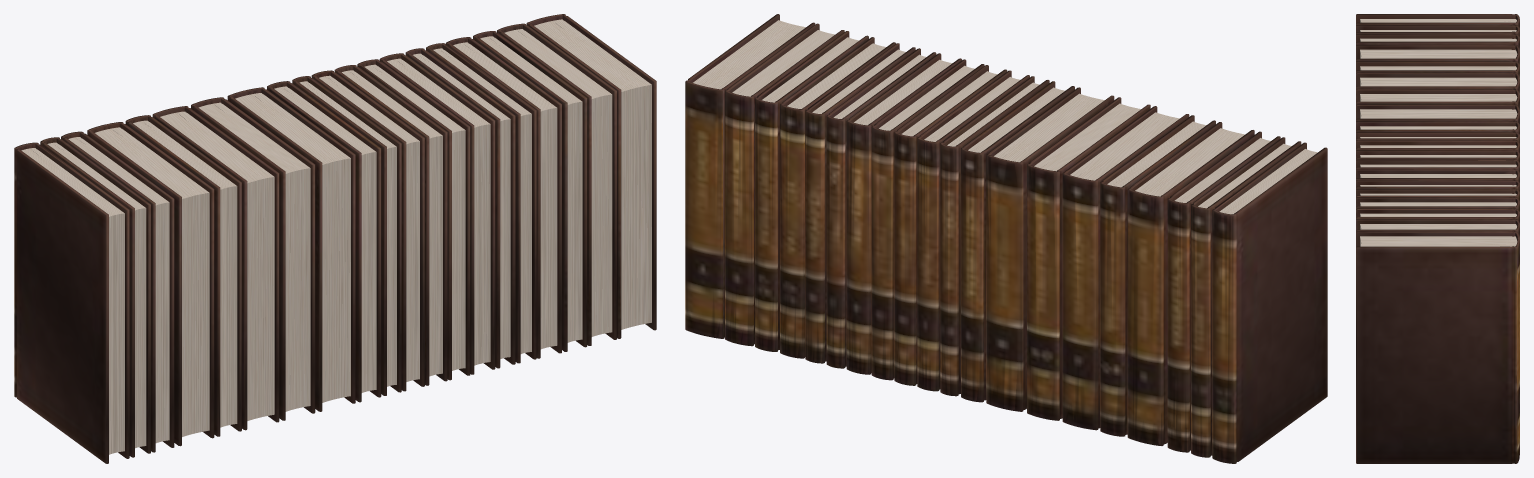
The model's file is buku.glb.
3 renders of one model, left to right at view 1: azimuth 30°, elevation 25°; view 2: azimuth 150°, elevation 25°; view 3: azimuth 270°, elevation 25°, orthographic. The views are drawn at different scales.
Visible parts, largest first — view 1: book_encyclopedia_set_01_book20, book_encyclopedia_set_01_book13, book_encyclopedia_set_01_book17, book_encyclopedia_set_01_book01, book_encyclopedia_set_01_book15, book_encyclopedia_set_01_book14, book_encyclopedia_set_01_book02, book_encyclopedia_set_01_book16, book_encyclopedia_set_01_book12, book_encyclopedia_set_01_book04, book_encyclopedia_set_01_book03, book_encyclopedia_set_01_book07 (+8 smaller); view 2: book_encyclopedia_set_01_book20, book_encyclopedia_set_01_book13, book_encyclopedia_set_01_book17, book_encyclopedia_set_01_book01, book_encyclopedia_set_01_book15, book_encyclopedia_set_01_book14, book_encyclopedia_set_01_book02, book_encyclopedia_set_01_book16, book_encyclopedia_set_01_book12, book_encyclopedia_set_01_book04, book_encyclopedia_set_01_book07, book_encyclopedia_set_01_book03 (+8 smaller); view 3: book_encyclopedia_set_01_book01, book_encyclopedia_set_01_book13, book_encyclopedia_set_01_book15, book_encyclopedia_set_01_book17, book_encyclopedia_set_01_book14, book_encyclopedia_set_01_book02, book_encyclopedia_set_01_book07, book_encyclopedia_set_01_book16, book_encyclopedia_set_01_book04, book_encyclopedia_set_01_book18, book_encyclopedia_set_01_book20, book_encyclopedia_set_01_book12 (+8 smaller).
Boxes of the visible parts, <box> form: book_encyclopedia_set_01_book20: <box>14,142,129,463</box>; book_encyclopedia_set_01_book13: <box>227,87,355,411</box>; book_encyclopedia_set_01_book17: <box>87,122,214,446</box>; book_encyclopedia_set_01_book01: <box>526,14,656,338</box>; book_encyclopedia_set_01_book15: <box>152,106,279,430</box>; book_encyclopedia_set_01_book14: <box>191,97,315,420</box>; book_encyclopedia_set_01_book02: <box>497,23,616,345</box>; book_encyclopedia_set_01_book16: <box>125,115,241,436</box>; book_encyclopedia_set_01_book12: <box>267,81,381,402</box>; book_encyclopedia_set_01_book04: <box>446,37,561,358</box>; book_encyclopedia_set_01_book03: <box>473,31,587,351</box>; book_encyclopedia_set_01_book07: <box>379,53,495,374</box>; book_encyclopedia_set_01_book20: <box>1212,142,1327,463</box>; book_encyclopedia_set_01_book13: <box>986,87,1114,411</box>; book_encyclopedia_set_01_book17: <box>1127,122,1254,445</box>; book_encyclopedia_set_01_book01: <box>685,14,815,338</box>; book_encyclopedia_set_01_book15: <box>1062,106,1189,430</box>; book_encyclopedia_set_01_book14: <box>1027,97,1150,420</box>; book_encyclopedia_set_01_book02: <box>725,23,844,346</box>; book_encyclopedia_set_01_book16: <box>1100,115,1215,436</box>; book_encyclopedia_set_01_book12: <box>961,81,1074,402</box>; book_encyclopedia_set_01_book04: <box>780,37,895,358</box>; book_encyclopedia_set_01_book07: <box>846,53,961,374</box>; book_encyclopedia_set_01_book03: <box>755,31,868,351</box>; book_encyclopedia_set_01_book01: <box>1356,231,1519,463</box>; book_encyclopedia_set_01_book13: <box>1356,104,1519,125</box>; book_encyclopedia_set_01_book15: <box>1356,72,1519,94</box>; book_encyclopedia_set_01_book17: <box>1356,45,1519,64</box>; book_encyclopedia_set_01_book14: <box>1356,89,1519,111</box>; book_encyclopedia_set_01_book02: <box>1356,219,1519,239</box>; book_encyclopedia_set_01_book07: <box>1356,169,1519,193</box>; book_encyclopedia_set_01_book16: <box>1356,61,1519,78</box>; book_encyclopedia_set_01_book04: <box>1356,197,1519,212</box>; book_encyclopedia_set_01_book18: <box>1356,34,1519,65</box>; book_encyclopedia_set_01_book20: <box>1356,14,1519,28</box>; book_encyclopedia_set_01_book12: <box>1356,121,1519,135</box>.
Bounding box in the file's own units: 0.34 × 0.1464 × 0.1006.
Materials: 2 (2 with a texture image).
